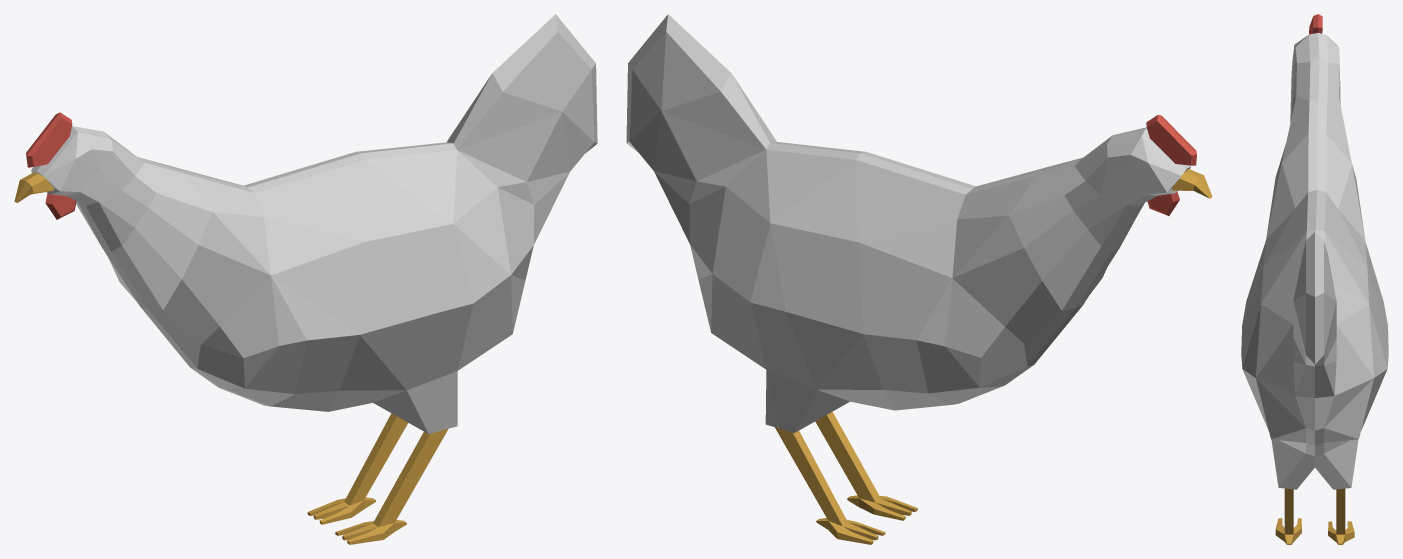
The model's file is hen_9.fbx.
The picture shows the model from 3 angles, left to right: view 1: azimuth 30°, elevation 25°; view 2: azimuth 150°, elevation 25°; view 3: azimuth 270°, elevation 25°; orthographic projection. The views are drawn at different scales.
Parts seen in each view (by area): view 1: Body, Feet, Top; view 2: Body, Feet, Top; view 3: Body, Feet, Top.
Boxes of the visible parts, x1,y1,x2,y2 form: Body: [31, 14, 597, 433]; Feet: [307, 413, 448, 544]; Top: [26, 112, 72, 167]; Body: [626, 14, 1190, 432]; Feet: [775, 411, 917, 544]; Top: [1146, 115, 1196, 165]; Body: [1241, 33, 1388, 489]; Feet: [1275, 488, 1354, 544]; Top: [1309, 14, 1322, 34].
Bounding box in the file's own units: 0.7017 × 2.11 × 2.67.
